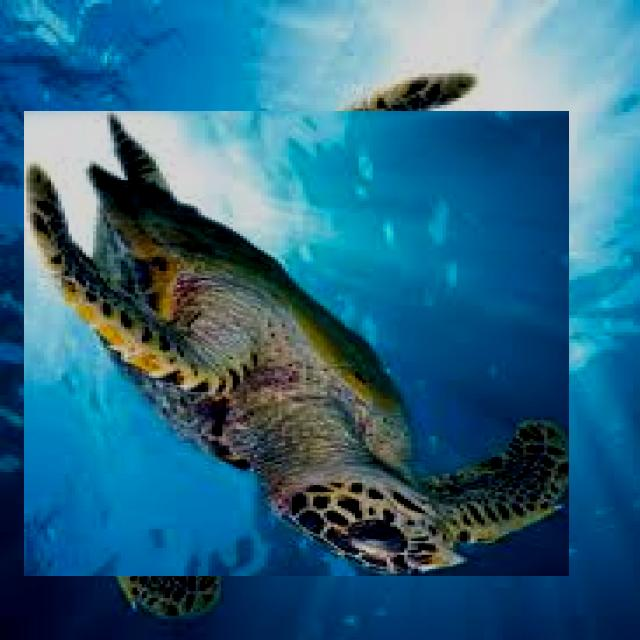Sea turtle: (44, 91, 550, 596)
